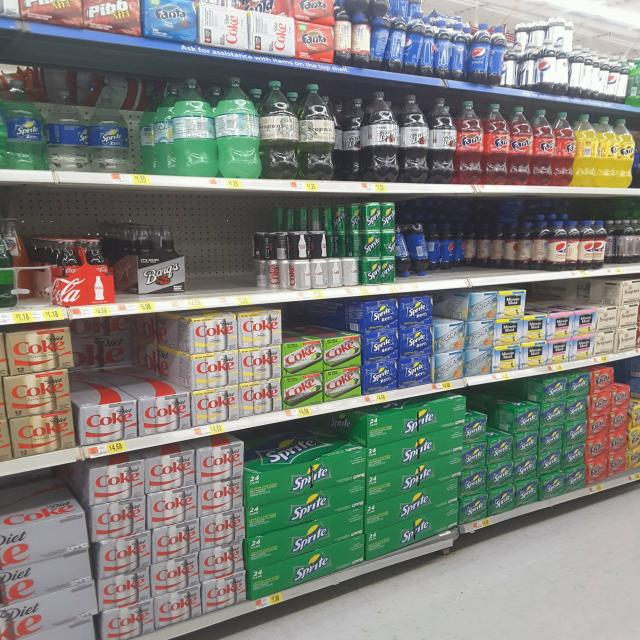void: (200, 212, 249, 308), (132, 84, 178, 184), (499, 201, 542, 280), (480, 202, 500, 285)
